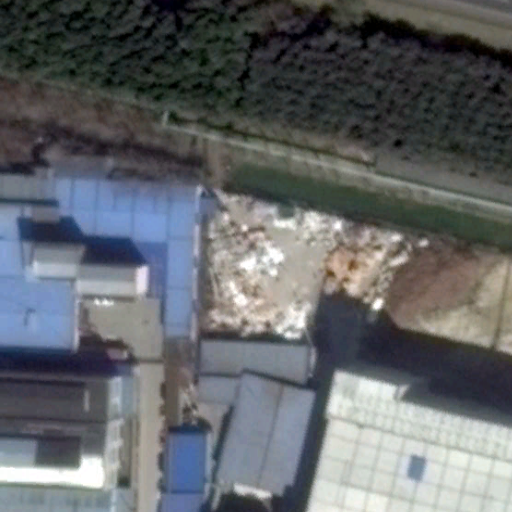msw: (198, 195, 404, 347)
